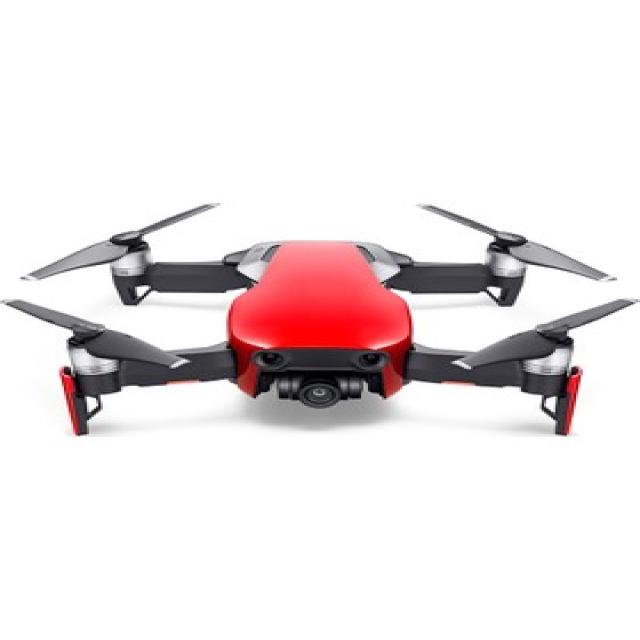drone: (21, 186, 633, 452)
